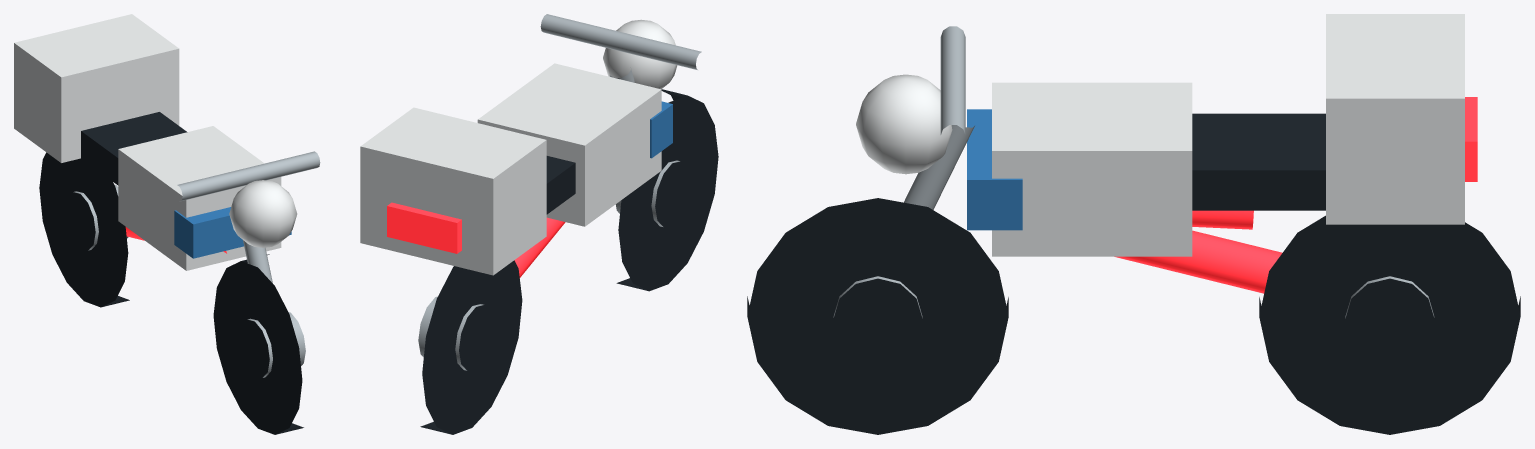
File: patrol-bike.glb
3 views of the same model, side by side, from view 1: azimuth 30°, elevation 25°; view 2: azimuth 150°, elevation 25°; view 3: azimuth 270°, elevation 25° (orthographic). The views are drawn at different scales.
Visible parts, largest first — view 1: rear_box, fuel_tank, wheel_0.92, wheel_-0.92, headlamp, seat, police_panel, handlebar, hub_0.92, front_fork; view 2: rear_box, fuel_tank, wheel_-0.92, wheel_0.92, handlebar, rear_light, headlamp, seat, police_panel, frame_lower, hub_-0.92, hub_0.92; view 3: wheel_0.92, wheel_-0.92, fuel_tank, rear_box, seat, headlamp, police_panel, frame_lower, handlebar, front_fork, frame_upper, rear_light.
Boxes of the visible parts, box(x1,y1,x2,y2) form: rear_box: box(14, 14, 179, 162); fuel_tank: box(118, 126, 281, 270); wheel_0.92: box(213, 254, 303, 434); wheel_-0.92: box(39, 152, 129, 307); headlamp: box(229, 180, 297, 247); seat: box(81, 112, 187, 185); police_panel: box(174, 207, 291, 258); handlebar: box(177, 151, 320, 201); hub_0.92: box(247, 312, 305, 377); front_fork: box(243, 240, 272, 283); rear_box: box(360, 107, 546, 275); fuel_tank: box(477, 63, 661, 226); wheel_-0.92: box(420, 260, 522, 434); wheel_0.92: box(616, 89, 718, 291); handlebar: box(540, 14, 701, 69); rear_light: box(387, 202, 461, 253); headlamp: box(603, 19, 677, 89); seat: box(546, 156, 575, 214); police_panel: box(650, 101, 672, 158); frame_lower: box(514, 217, 565, 277); hub_-0.92: box(418, 296, 483, 370); hub_0.92: box(615, 160, 679, 226); wheel_0.92: box(747, 198, 1008, 434); wheel_-0.92: box(1259, 215, 1520, 434); fuel_tank: box(992, 82, 1192, 256); rear_box: box(1326, 14, 1464, 224); seat: box(1192, 113, 1325, 210); headlamp: box(856, 74, 952, 174); police_panel: box(967, 109, 1022, 230); frame_lower: box(1114, 230, 1282, 293); handlebar: box(940, 26, 965, 134); front_fork: box(904, 125, 974, 209); frame_upper: box(1192, 210, 1253, 229); rear_light: box(1465, 97, 1477, 181).
Size of the model in its own units: 0.84 by 1.46 by 2.78.
